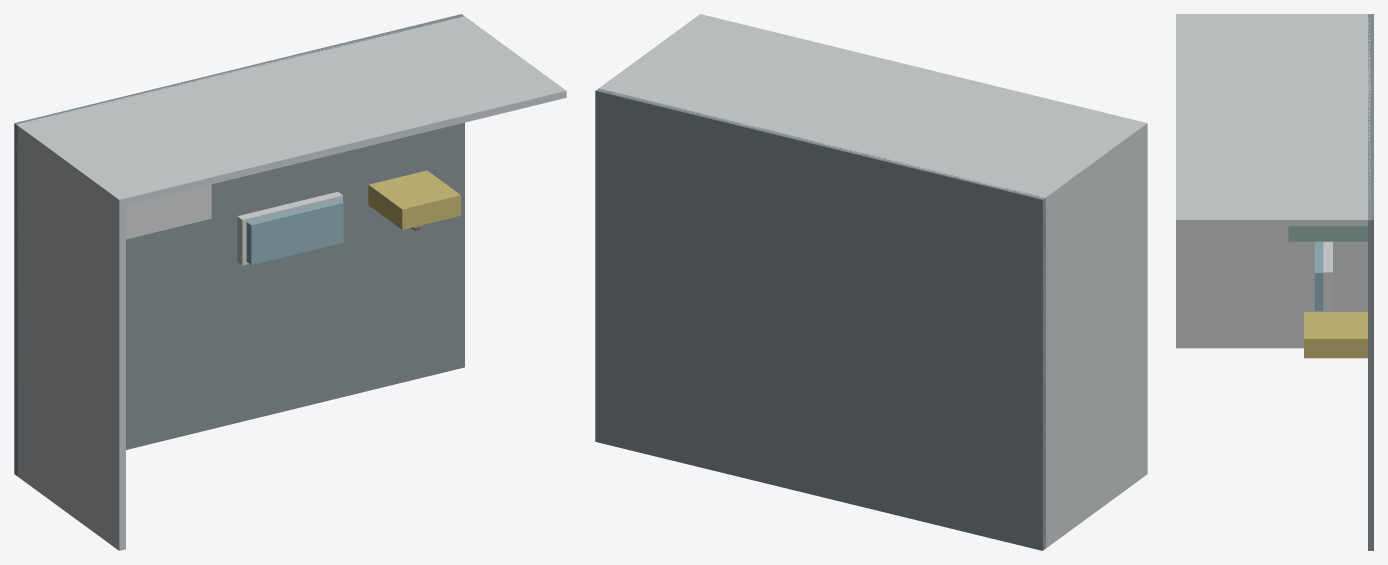
The model's file is pediatrics-room-medium.glb.
3 views of the same model, side by side, from view 1: azimuth 30°, elevation 25°; view 2: azimuth 150°, elevation 25°; view 3: azimuth 270°, elevation 25° (orthographic). The views are drawn at different scales.
Visible parts, largest first — view 1: floor, wall_back, wall_left, pediatric_mattress, play_shelf, exam_table, pediatric_bed; view 2: floor, wall_back, wall_left; view 3: wall_back, wall_left, floor, play_shelf, supplies_cabinet, pediatric_bed, pediatric_mattress.
Part boxes in pixels (x1,y1,x2,y2): floor: [14, 14, 464, 476]; wall_back: [16, 16, 566, 206]; wall_left: [16, 122, 125, 550]; pediatric_mattress: [246, 199, 343, 264]; play_shelf: [368, 170, 460, 229]; exam_table: [126, 184, 211, 239]; pediatric_bed: [237, 191, 342, 265]; floor: [595, 88, 1045, 550]; wall_back: [598, 14, 1147, 204]; wall_left: [1040, 122, 1147, 548]; wall_back: [1176, 14, 1370, 226]; wall_left: [1176, 14, 1367, 348]; floor: [1368, 14, 1373, 550]; play_shelf: [1304, 312, 1367, 358]; supplies_cabinet: [1288, 226, 1367, 241]; pediatric_bed: [1323, 241, 1332, 311]; pediatric_mattress: [1314, 241, 1323, 310].
Bounding box in the file's own units: 8 × 6 × 3.25.
